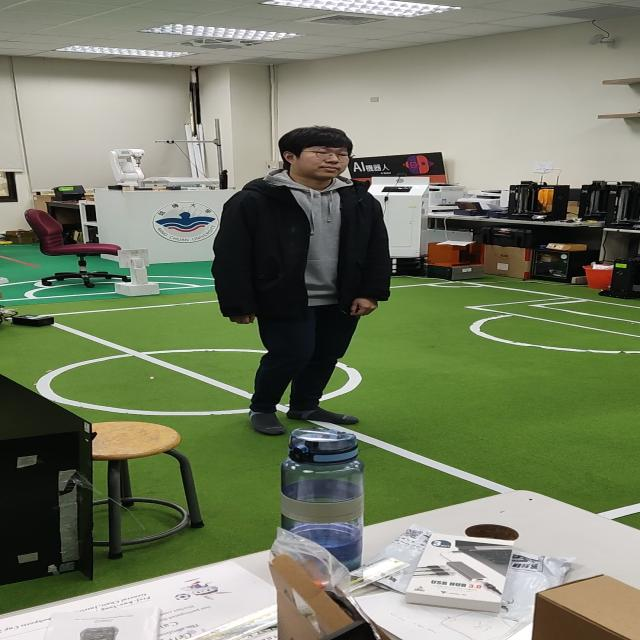person: (210, 116, 390, 424)
